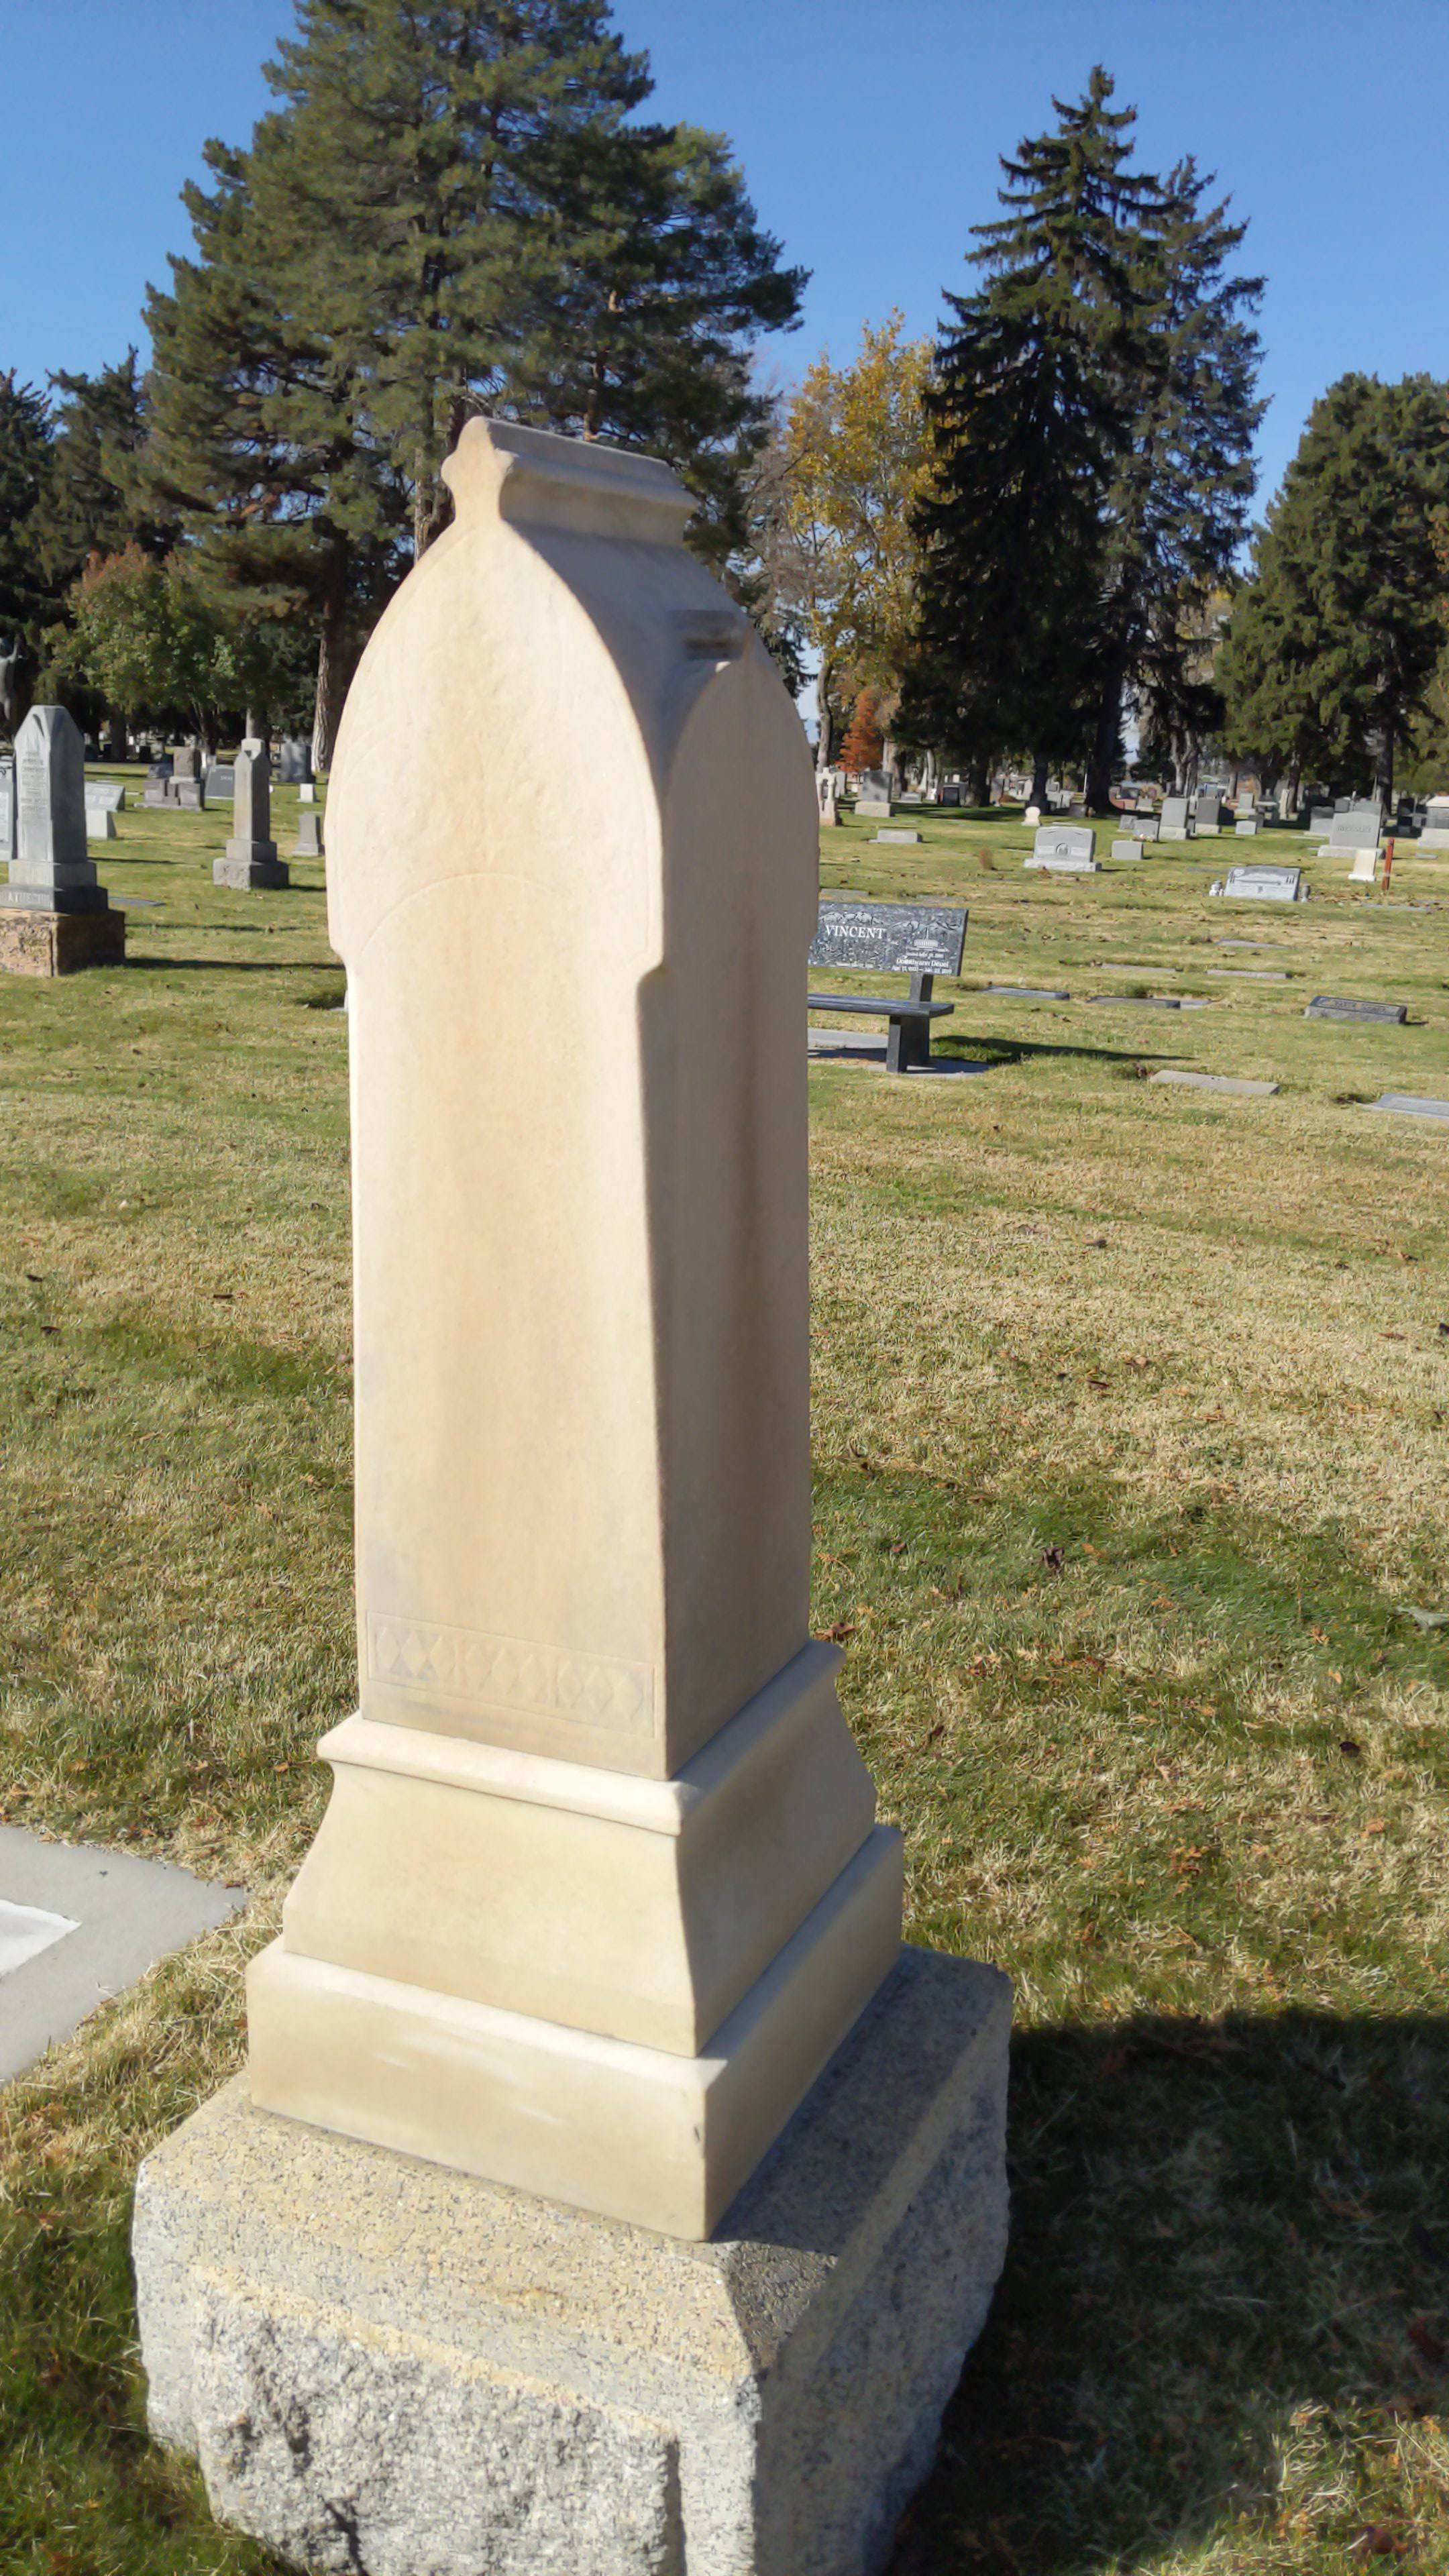obelisk: (241, 402, 902, 2231)
